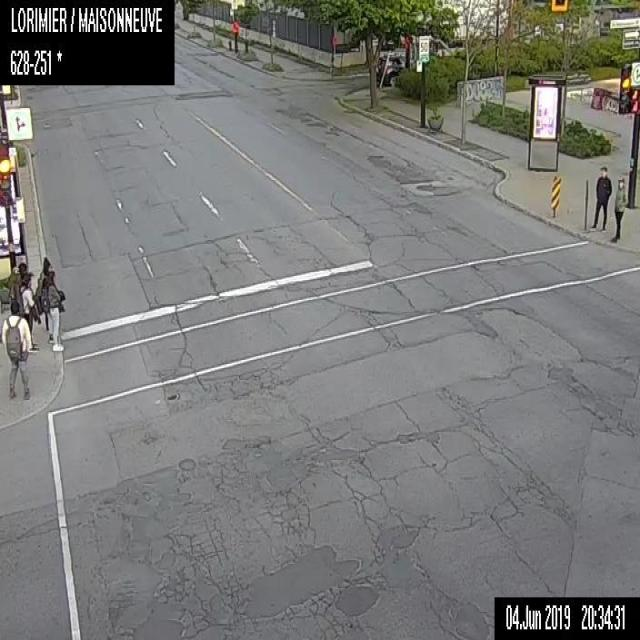pedestrian: (1, 300, 31, 400), (40, 269, 64, 350), (20, 274, 38, 352), (590, 166, 611, 230), (4, 262, 27, 314), (35, 257, 51, 330), (611, 176, 627, 241)
vehicle: (374, 52, 404, 86)
